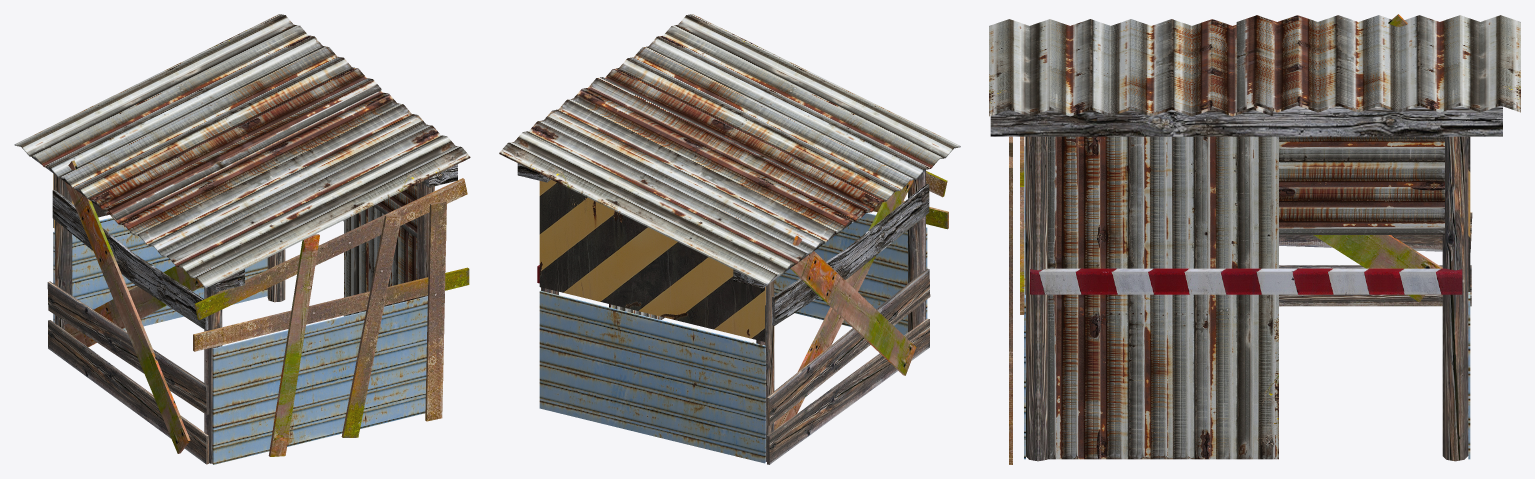
The model's file is shack_01.fbx.
The picture shows the model from 3 angles, left to right: view 1: azimuth 30°, elevation 25°; view 2: azimuth 150°, elevation 25°; view 3: azimuth 270°, elevation 25°; orthographic projection. The views are drawn at different scales.
Parts seen in each view (by area): view 1: shack_01; view 2: shack_01; view 3: shack_01.
Part boxes in pixels (box(x1,y1,x2,y2)): shack_01: box(14, 14, 470, 464); shack_01: box(499, 14, 960, 464); shack_01: box(989, 14, 1520, 464).
Size of the model in its own units: 3.54 by 3.36 by 4.25.
